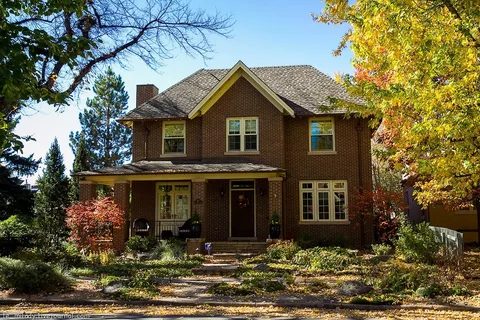private_hause: (72, 61, 386, 254)
